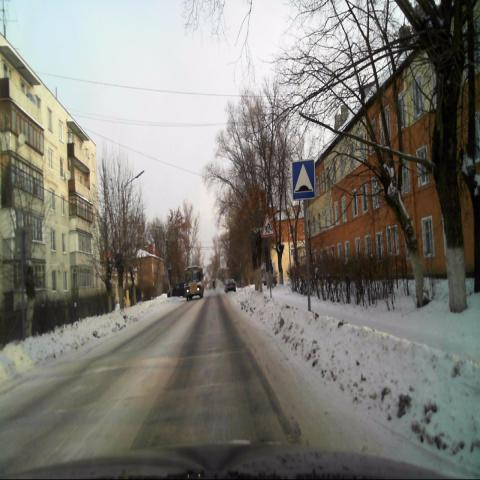1_23: (261, 214, 275, 237)
5_20: (292, 160, 315, 200)
